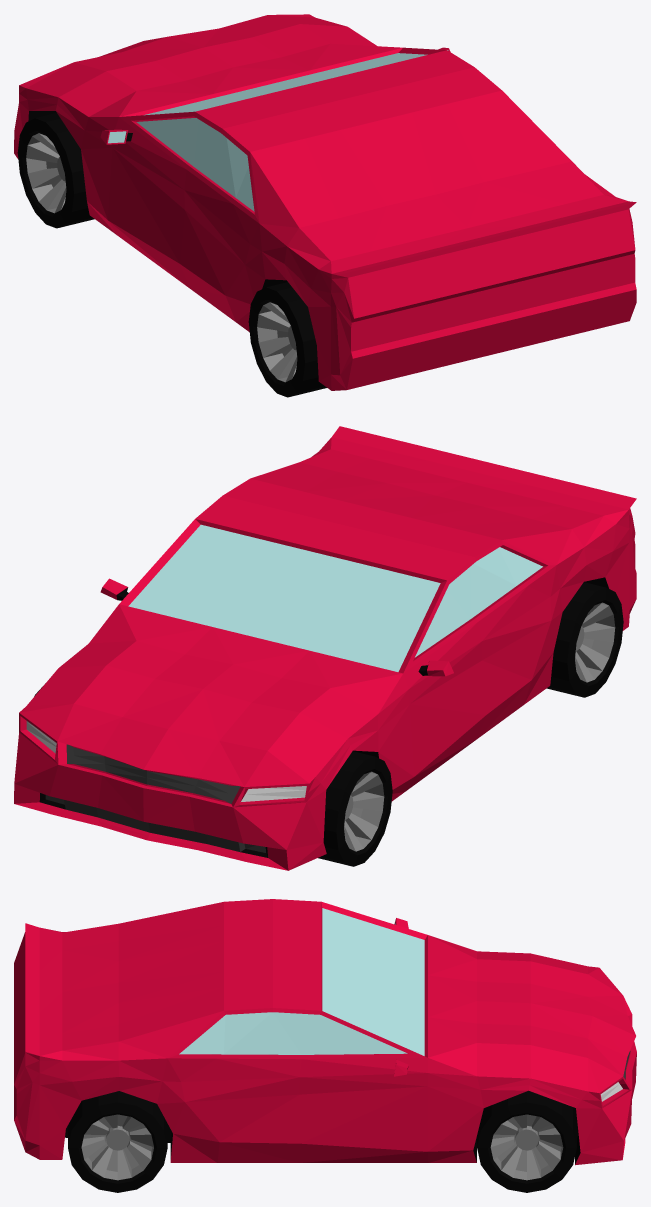
The model's file is Car.fbx.
The picture shows the model from 3 angles, top to bottom: view 1: azimuth 30°, elevation 25°; view 2: azimuth 150°, elevation 25°; view 3: azimuth 270°, elevation 25°; orthographic projection. The views are drawn at different scales.
Visible parts, largest first — view 1: Car; view 2: Car; view 3: Car.
Part boxes in pixels (box(x1,y1,x2,y2)): Car: box(14, 14, 636, 397); Car: box(14, 426, 636, 870); Car: box(14, 899, 636, 1192).
Size of the model in its own units: 228 by 121 by 399.
